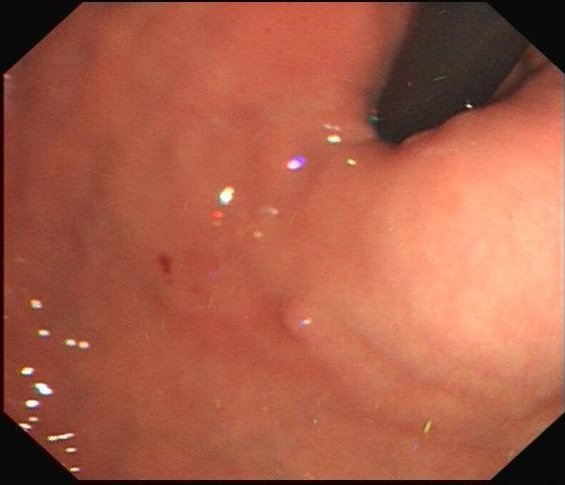Polyp: (253, 277, 344, 358)
